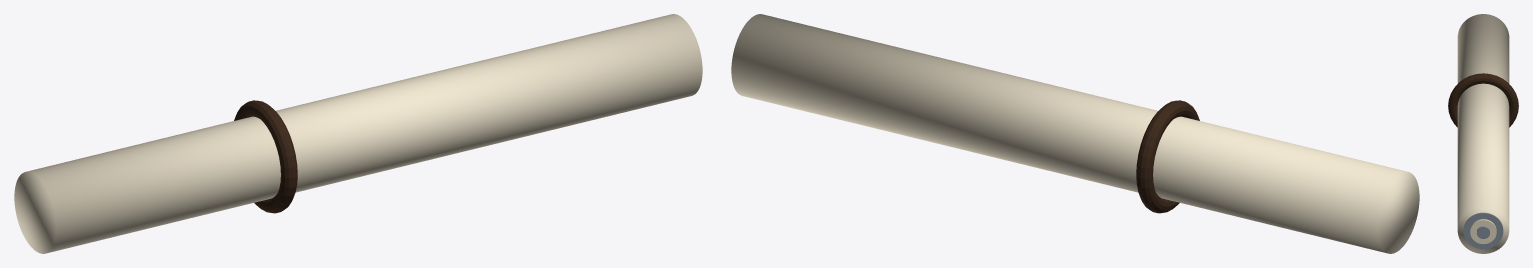
Rendered from 17_rolled_canvas.fbx.
3 views of the same model, side by side, from view 1: azimuth 30°, elevation 25°; view 2: azimuth 150°, elevation 25°; view 3: azimuth 270°, elevation 25° (orthographic). The views are drawn at different scales.
Visible parts, largest first — view 1: CanvasRoll, CanvasCord; view 2: CanvasRoll, CanvasCord; view 3: CanvasRoll, CanvasCord, RollEnd1, RollEnd2, RollEnd3.
Boxes of the visible parts, box(x1,y1,x2,y2) form: CanvasRoll: box(14, 14, 702, 253); CanvasCord: box(234, 100, 297, 213); CanvasRoll: box(731, 14, 1419, 253); CanvasCord: box(1136, 100, 1199, 213); CanvasRoll: box(1457, 14, 1509, 253); CanvasCord: box(1448, 73, 1518, 127); RollEnd1: box(1463, 212, 1503, 249); RollEnd2: box(1470, 219, 1496, 244); RollEnd3: box(1477, 226, 1489, 238).
Bounding box in the file's own units: 0.628 × 0.096 × 0.096.
